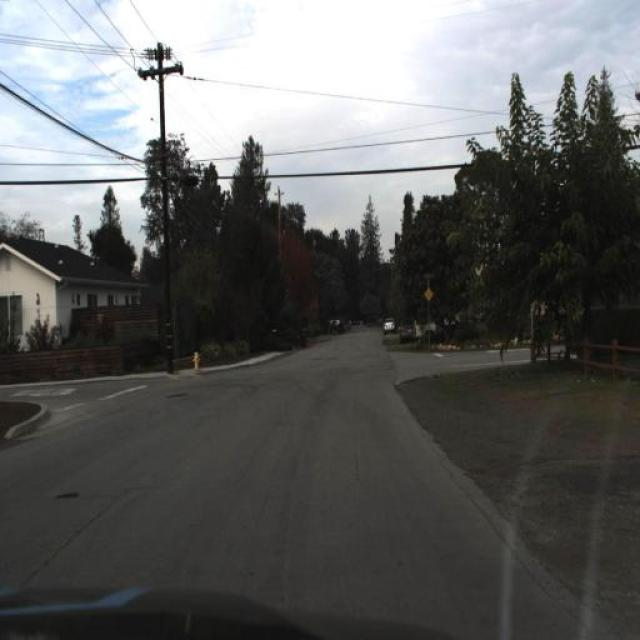car: (394, 308, 418, 349), (378, 312, 397, 339)
